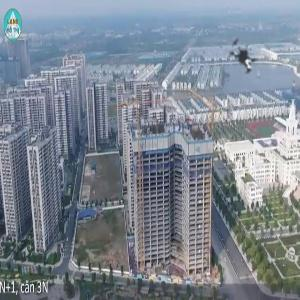drone: (208, 21, 281, 94)
